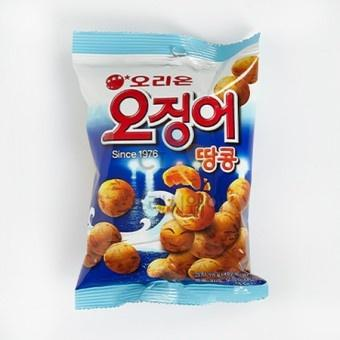snack: (71, 30, 269, 310)
